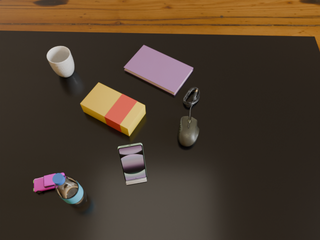book: (124, 45, 193, 95)
bottle: (52, 173, 87, 207)
box: (80, 83, 145, 136)
cup: (47, 46, 74, 77)
mouse: (178, 116, 199, 146)
phone: (118, 143, 147, 181)
toy_car: (34, 173, 65, 193)
